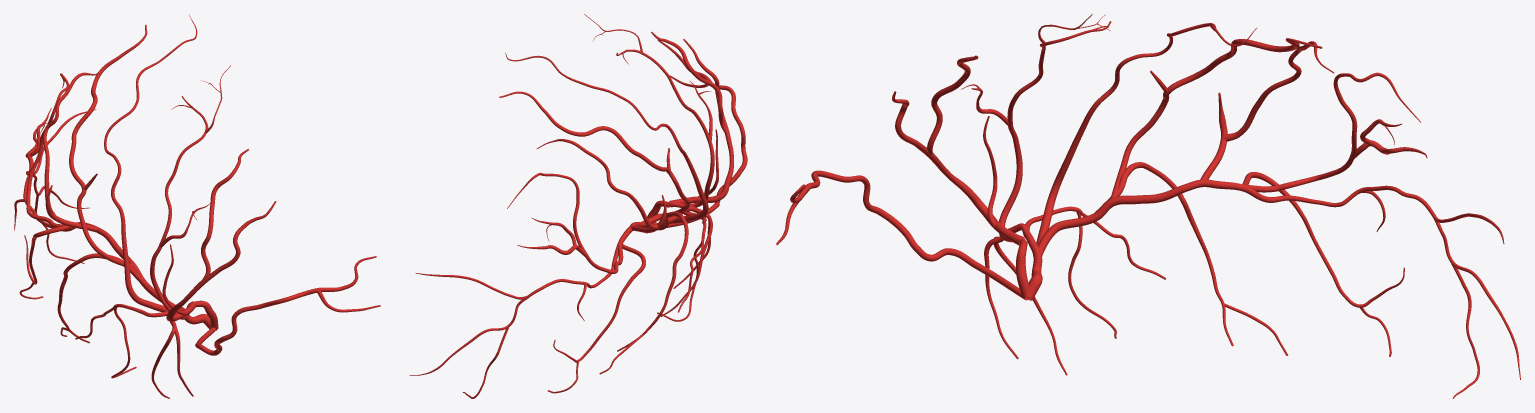
Rendered from circulatorio-insular-branches-of-middle-cerebral-artery-m2-r.glb.
3 views of the same model, side by side, from view 1: azimuth 30°, elevation 25°; view 2: azimuth 150°, elevation 25°; view 3: azimuth 270°, elevation 25° (orthographic). The views are drawn at different scales.
Visible parts, largest first — view 1: Prefrontal artery.r, Artery of precentral sulcus.r, Lateral frontobasal artery.r, Artery of central sulcus.r, Postcentral arterial branch.r, Anterior temporal branch.r, Posterior parietal artery.r, Parietal branches of middle cerebral artery.r, Temporo-occipital branch.r, Temporal branches of middle cerebral artery.r, Middle cerebral artery (M3-segment).r, Posterior temporal branch.r (+1 smaller); view 2: Prefrontal artery.r, Artery of precentral sulcus.r, Posterior parietal artery.r, Temporo-occipital branch.r, Artery of central sulcus.r, Postcentral arterial branch.r, Anterior temporal branch.r, Lateral frontobasal artery.r, Parietal branches of middle cerebral artery.r, Temporal branches of middle cerebral artery.r, Posterior temporal branch.r, Middle cerebral artery (M3-segment).r; view 3: Middle cerebral artery (M3-segment).r, Artery of precentral sulcus.r, Lateral frontobasal artery.r, Anterior temporal branch.r, Prefrontal artery.r, Posterior parietal artery.r, Temporo-occipital branch.r, Artery of central sulcus.r, Postcentral arterial branch.r, Parietal branches of middle cerebral artery.r, Temporal branches of middle cerebral artery.r, Posterior temporal branch.r (+1 smaller).
Part boxes in pixels (box(x1,y1,x2,y2)): Prefrontal artery.r: box(166, 149, 276, 321); Artery of precentral sulcus.r: box(150, 65, 230, 319); Lateral frontobasal artery.r: box(195, 256, 380, 355); Artery of central sulcus.r: box(104, 14, 197, 312); Postcentral arterial branch.r: box(69, 25, 147, 267); Anterior temporal branch.r: box(75, 304, 193, 398); Posterior parietal artery.r: box(25, 73, 78, 227); Parietal branches of middle cerebral artery.r: box(43, 72, 97, 232); Temporo-occipital branch.r: box(23, 109, 96, 263); Temporal branches of middle cerebral artery.r: box(57, 253, 142, 343); Middle cerebral artery (M3-segment).r: box(34, 213, 175, 305); Posterior temporal branch.r: box(19, 225, 74, 299); Prefrontal artery.r: box(651, 32, 733, 207); Artery of precentral sulcus.r: box(584, 14, 718, 207); Posterior parietal artery.r: box(507, 172, 623, 273); Temporo-occipital branch.r: box(409, 273, 591, 398); Artery of central sulcus.r: box(505, 53, 708, 223); Postcentral arterial branch.r: box(499, 91, 689, 214); Anterior temporal branch.r: box(657, 206, 712, 321); Lateral frontobasal artery.r: box(657, 40, 747, 227); Parietal branches of middle cerebral artery.r: box(536, 139, 666, 232); Temporal branches of middle cerebral artery.r: box(599, 211, 688, 374); Posterior temporal branch.r: box(547, 243, 645, 393); Middle cerebral artery (M3-segment).r: box(591, 213, 678, 288); Middle cerebral artery (M3-segment).r: box(1038, 179, 1340, 255); Artery of precentral sulcus.r: box(961, 14, 1111, 243); Lateral frontobasal artery.r: box(776, 170, 1029, 300); Anterior temporal branch.r: box(984, 206, 1165, 375); Prefrontal artery.r: box(892, 55, 1023, 245); Posterior parietal artery.r: box(1244, 72, 1427, 192); Temporo-occipital branch.r: box(1340, 185, 1520, 398); Artery of central sulcus.r: box(1033, 23, 1257, 256); Postcentral arterial branch.r: box(1110, 38, 1322, 198); Parietal branches of middle cerebral artery.r: box(1200, 41, 1334, 180); Temporal branches of middle cerebral artery.r: box(1094, 162, 1287, 355); Posterior temporal branch.r: box(1242, 172, 1404, 356).
Size of the model in its own units: 0.0601 by 0.1046 by 0.1733.
